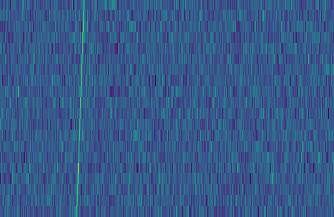signal: (69, 0, 86, 217)
